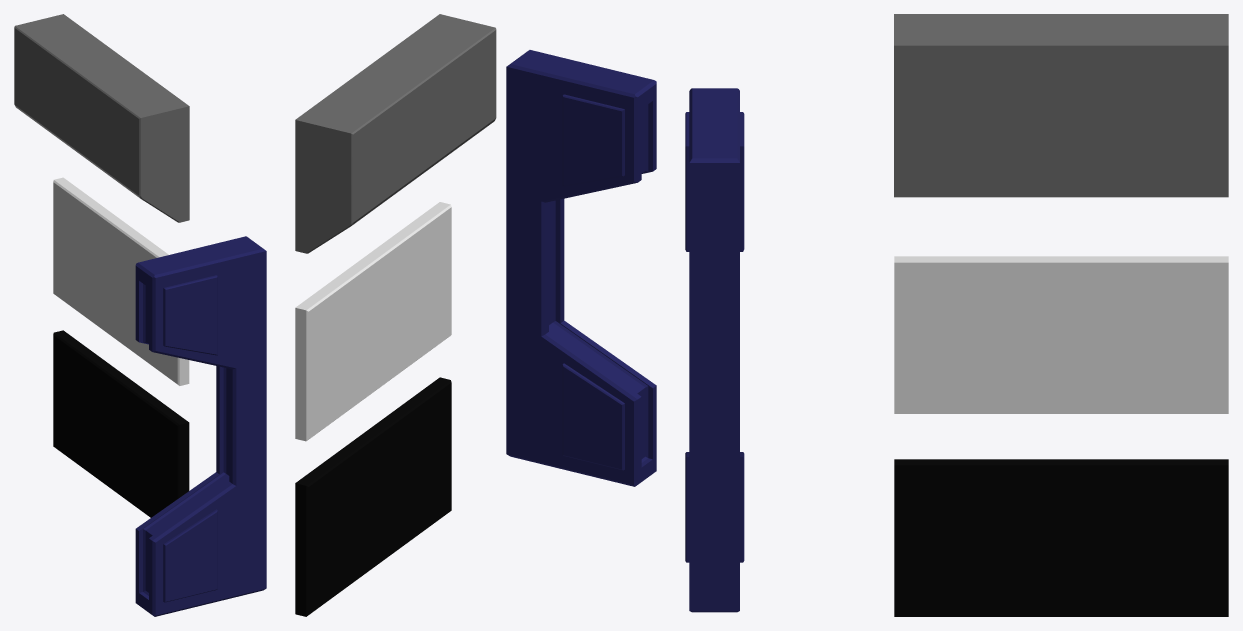
The model's file is TempWall.fbx.
3 views of the same model, side by side, from view 1: azimuth 30°, elevation 25°; view 2: azimuth 150°, elevation 25°; view 3: azimuth 270°, elevation 25° (orthographic). The views are drawn at different scales.
Parts seen in each view (by area): view 1: Pillar012, AnglePiece4, BasePiece013, BasePiece020; view 2: Pillar012, AnglePiece4, BasePiece013, BasePiece020; view 3: AnglePiece4, BasePiece013, BasePiece020, Pillar012.
Boxes of the visible parts, box(x1,y1,x2,y2) form: Pillar012: box(135, 236, 266, 616); AnglePiece4: box(14, 14, 189, 222); BasePiece013: box(53, 330, 189, 517); BasePiece020: box(53, 177, 189, 385); Pillar012: box(506, 50, 656, 486); AnglePiece4: box(295, 14, 496, 253); BasePiece013: box(295, 377, 451, 616); BasePiece020: box(295, 202, 451, 441); AnglePiece4: box(894, 14, 1228, 197); BasePiece013: box(894, 459, 1228, 616); BasePiece020: box(894, 256, 1228, 413); Pillar012: box(685, 88, 744, 612).
Size of the model in its own units: 1.04 by 3.77 by 3.25.
